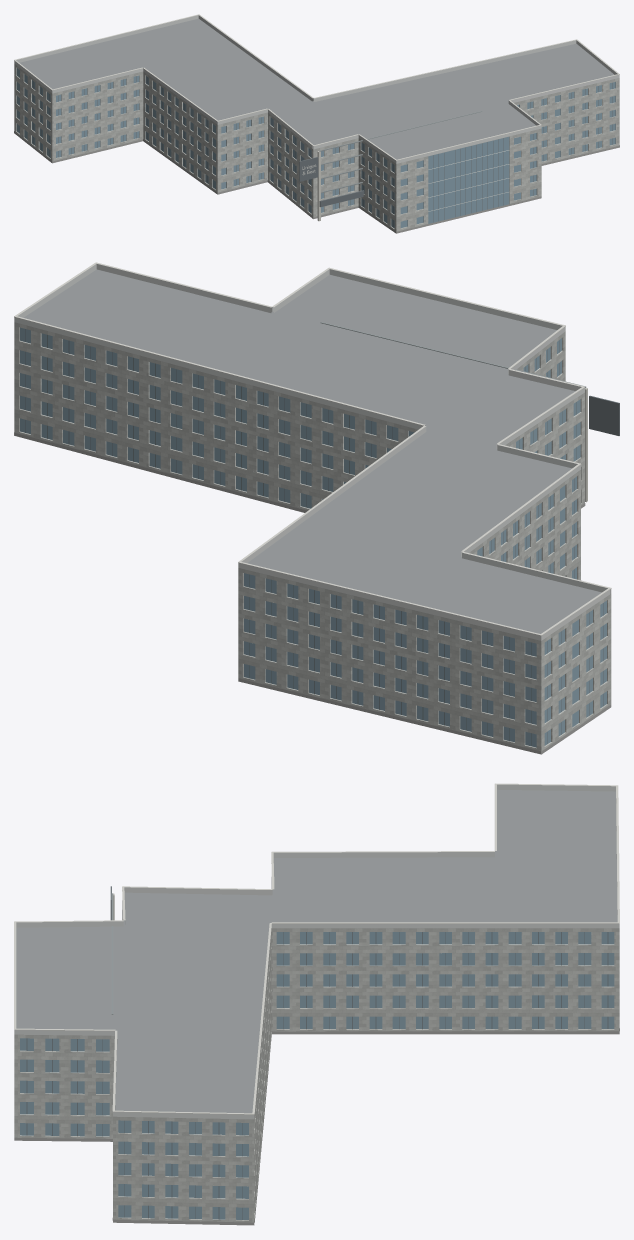
The picture shows the model from 3 angles, top to bottom: view 1: azimuth 30°, elevation 25°; view 2: azimuth 150°, elevation 25°; view 3: azimuth 270°, elevation 25°; orthographic projection. The views are drawn at different scales.
Parts seen in each view (by area): view 1: language__roof, language__wall, language__glass, language__parapet, language__trim, language__frame, language__base, language__floor-band, language__slogan-panel, language__sign-band; view 2: language__roof, language__wall, language__glass, language__parapet, language__trim, language__frame, language__base, language__slogan-panel; view 3: language__roof, language__wall, language__glass, language__parapet, language__trim, language__base, language__frame.
Part boxes in pixels (x1,y1,x2,y2): language__roof: (19,18,614,159); language__wall: (14,64,619,231); language__glass: (16,68,615,228); language__parapet: (14,15,619,163); language__trim: (14,14,619,160); language__frame: (33,76,612,227); language__base: (14,131,619,233); language__floor-band: (319,111,482,206); language__slogan-panel: (299,157,318,181); language__sign-band: (319,190,364,207); language__roof: (23,269,601,633); language__wall: (14,322,611,753); language__glass: (20,327,606,747); language__parapet: (14,264,611,640); language__trim: (14,262,611,635); language__frame: (25,329,603,745); language__base: (14,432,611,754); language__slogan-panel: (589,395,619,435); language__roof: (16,789,617,1113); language__wall: (14,877,619,1222); language__glass: (20,932,614,1219); language__parapet: (14,784,619,1119); language__trim: (14,783,619,1114); language__base: (14,1028,619,1225); language__frame: (26,932,608,1219).
Bounding box in the file's own units: 121 × 18.92 × 93.35.
Materials: 11 (1 with a texture image).
